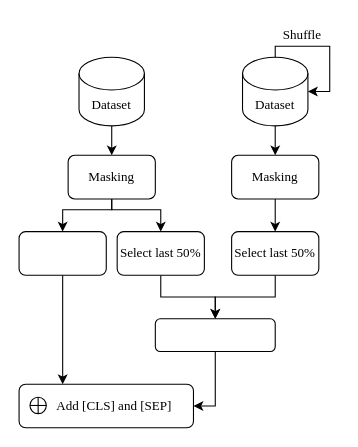
This 358x447 diagram has some shape labels left out. The centre of each missing label's shape, as x and y in pixels:
NSP prob > 0.5: the point at 214,335
Select first 50%: the point at 62,253
